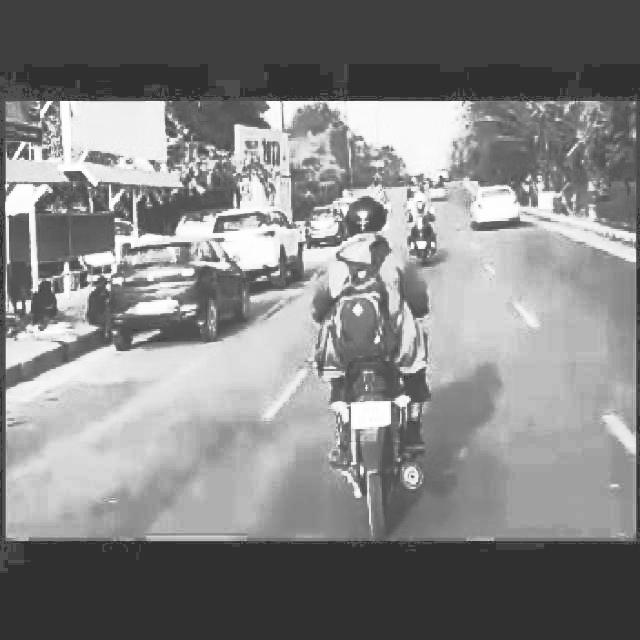Car: (98, 240, 232, 344), (240, 209, 296, 285), (471, 169, 520, 245), (302, 200, 346, 240)
